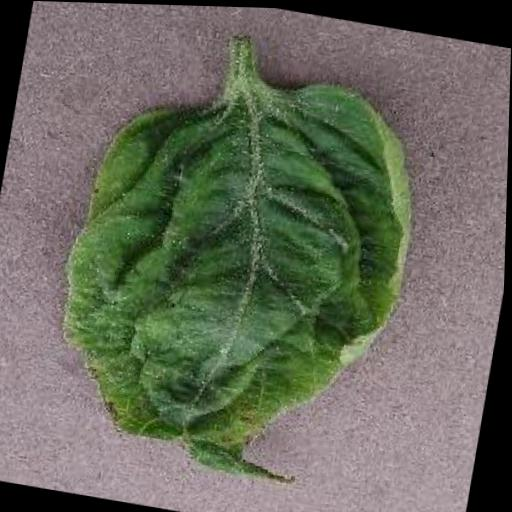Yellow Leaf Curl Virus: (36, 36, 443, 503)
